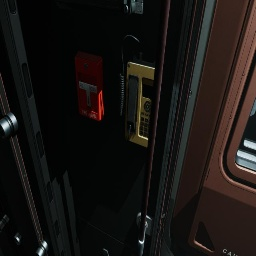EmergencyPhone ,: (119, 35, 163, 148)
FireAlarm ,: (75, 51, 104, 121)
